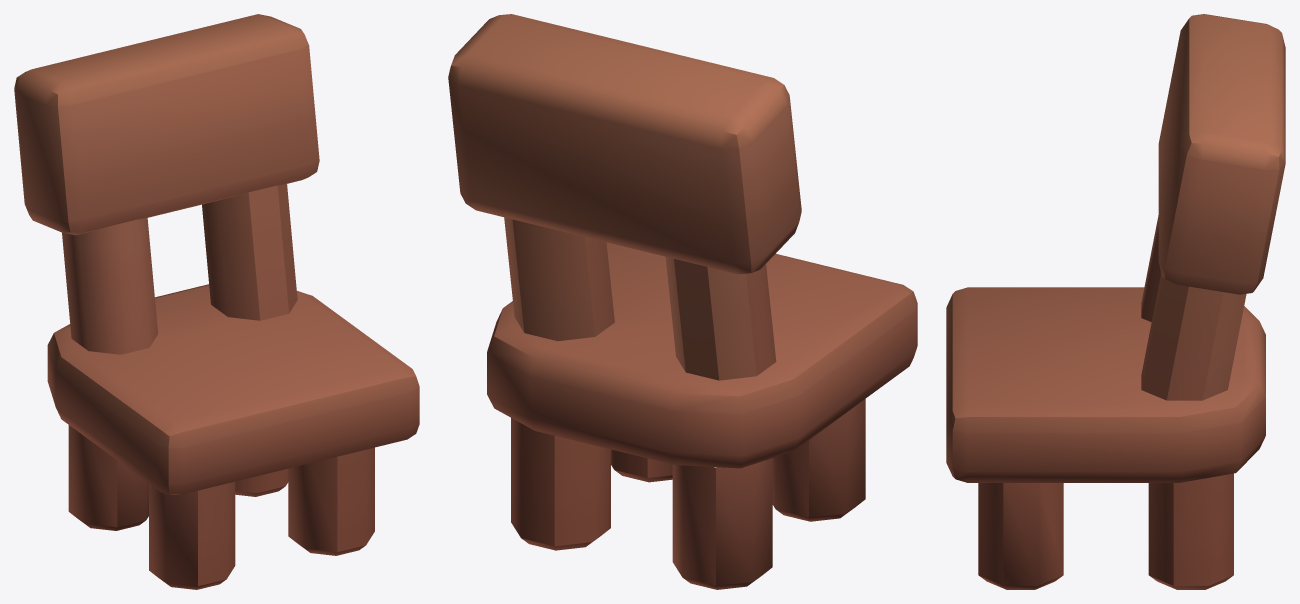
File: kay-cadeira-restaurante-b.gltf
The picture shows the model from 3 angles, left to right: view 1: azimuth 30°, elevation 25°; view 2: azimuth 150°, elevation 25°; view 3: azimuth 270°, elevation 25°; orthographic projection. The views are drawn at different scales.
Visible parts, largest first — view 1: chair_B; view 2: chair_B; view 3: chair_B.
Part boxes in pixels (x1,y1,x2,y2): chair_B: (14,14,419,589); chair_B: (448,14,917,589); chair_B: (946,14,1285,589).
Size of the model in its own units: 0.4875 by 0.7852 by 0.5176.
Materials: 1 (1 with a texture image).
